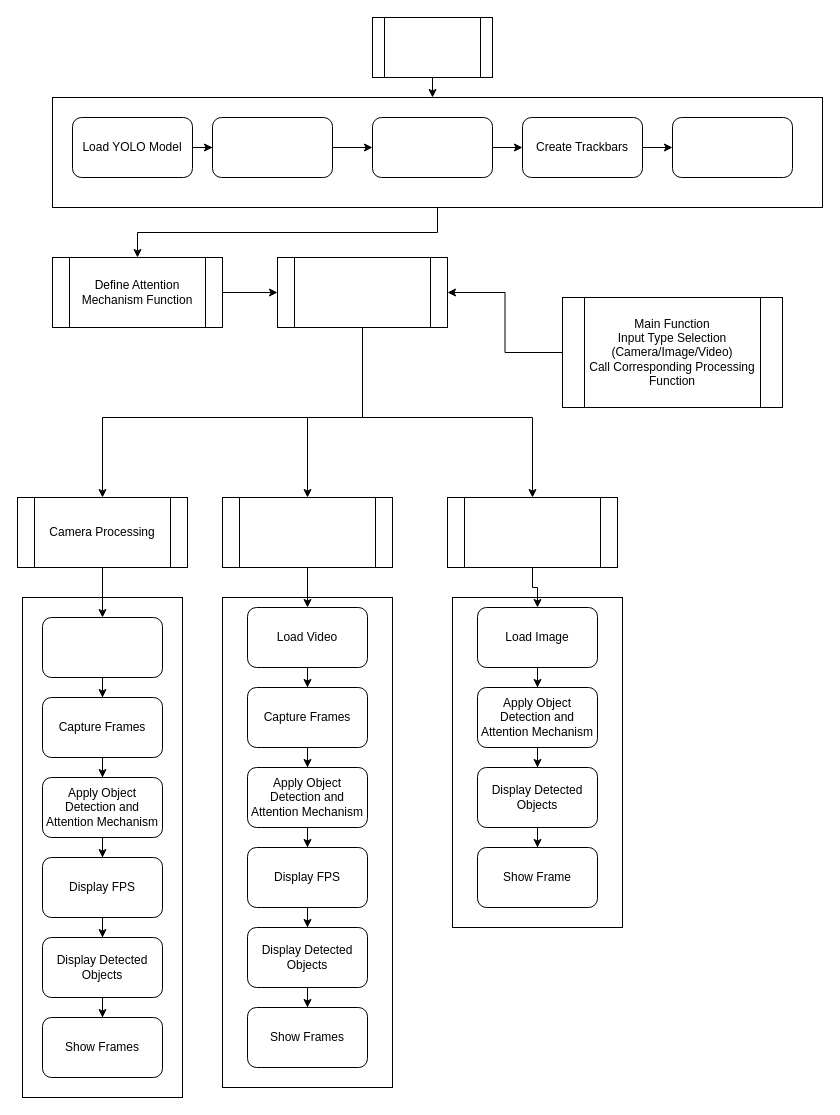
The diagram is 840 pixels wide and 1115 high, and some of its shapes have lost their labels. The shapes that lost their labels are listed below. From the top down, each one's box as (x1, y1, x2, y2) in pixels, then its label:
(372, 16, 492, 78): Initialization and Setup
(212, 116, 332, 178): Load Class Names
(372, 116, 492, 178): Apply NMS Define Thresholds
(672, 116, 792, 178): Create Output Directory
(276, 256, 448, 328): Define Object Detection Function
(222, 496, 392, 568): Video Processing
(446, 496, 618, 568): Image Processing
(42, 616, 162, 678): Initialize Camera
